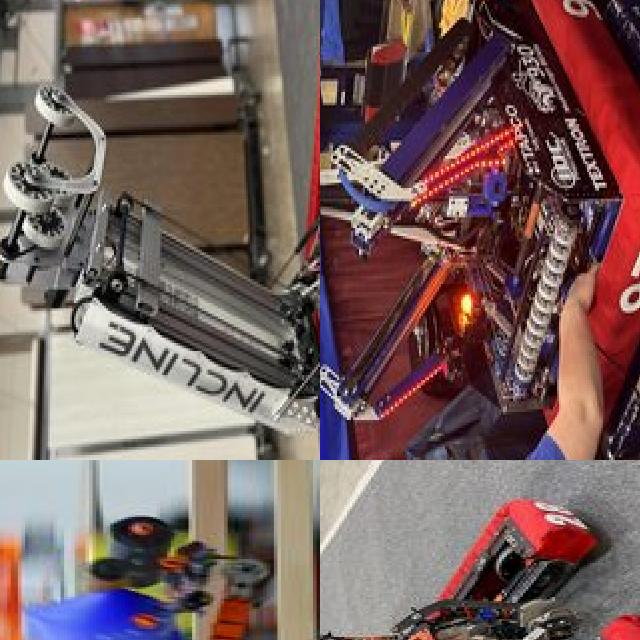FRC-Robots: (0, 0, 320, 460), (320, 0, 640, 447), (320, 460, 640, 640), (23, 478, 320, 640)
